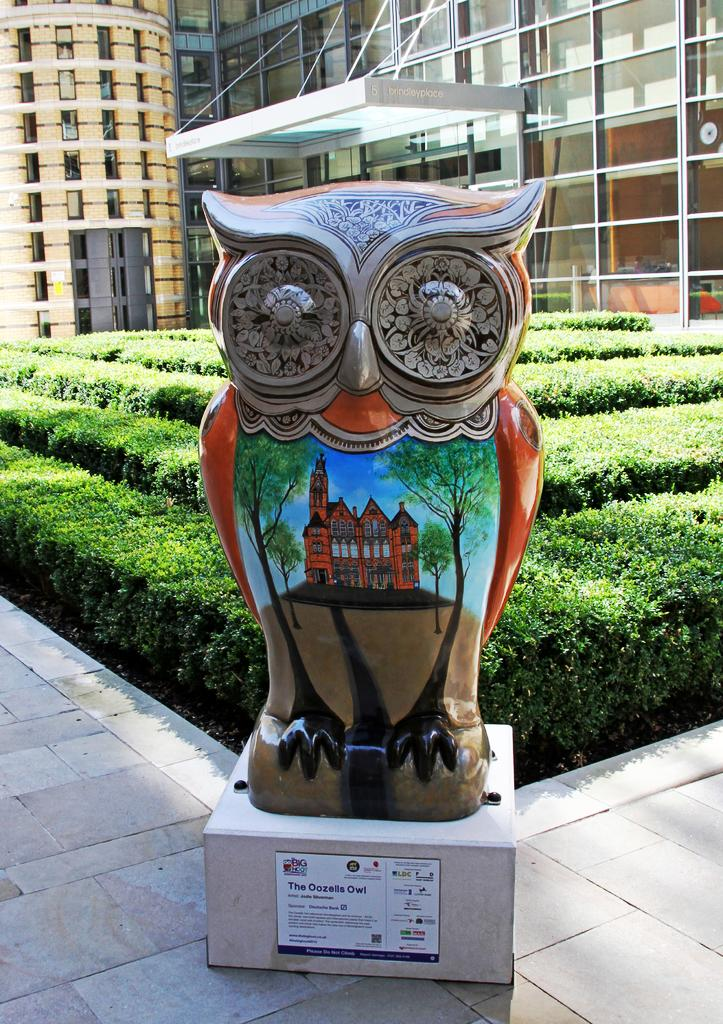Owl: (193, 176, 548, 780)
